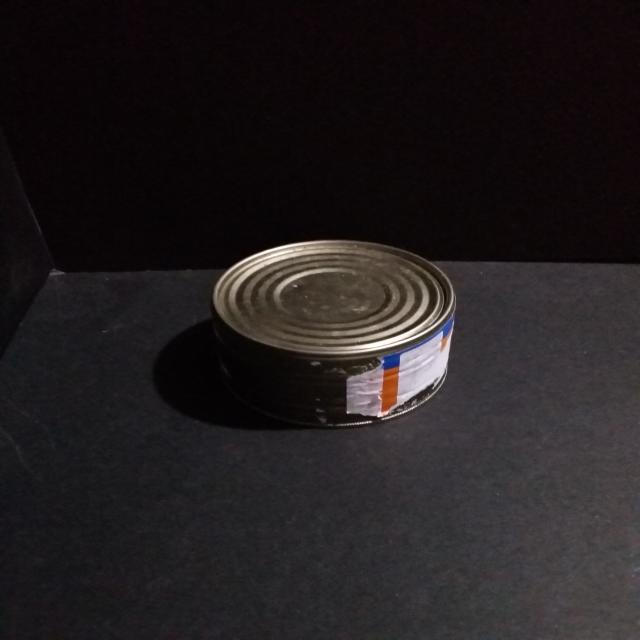metal-can: (210, 233, 458, 432)
